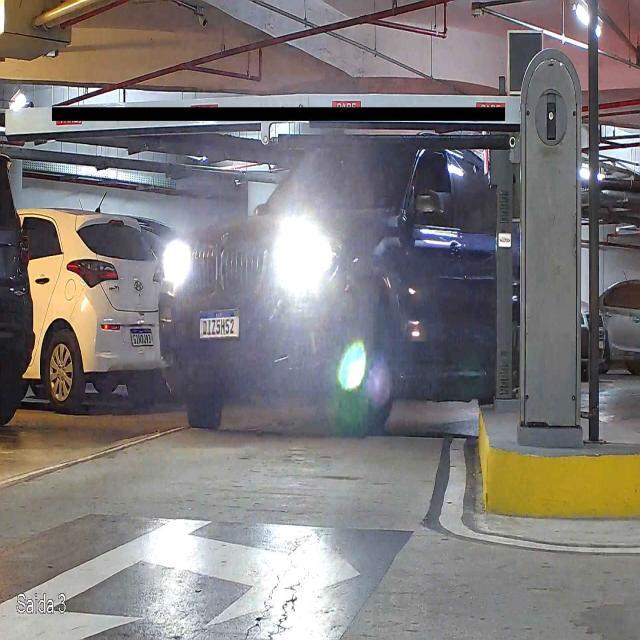mercosul_plate: (199, 308, 241, 339)
